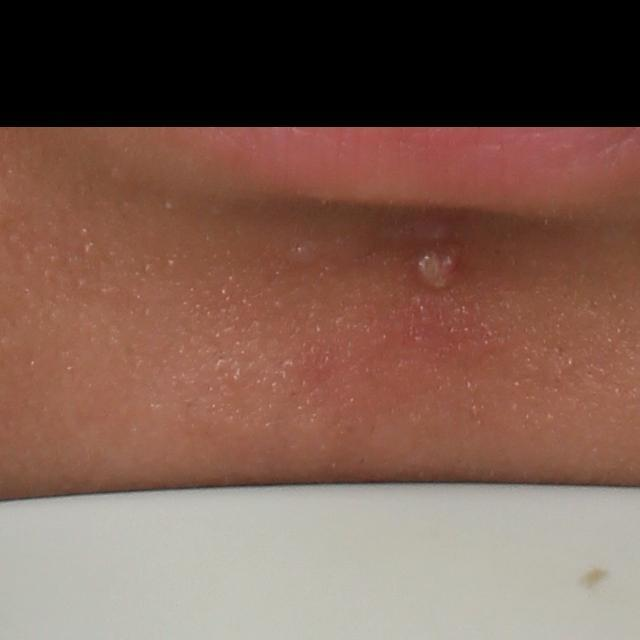pustule: (397, 240, 462, 298)
